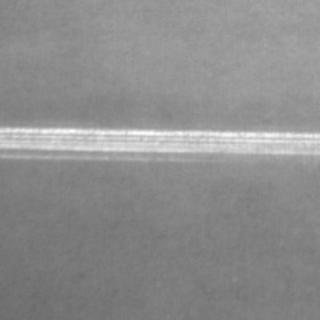scratches: (0, 124, 316, 158)
